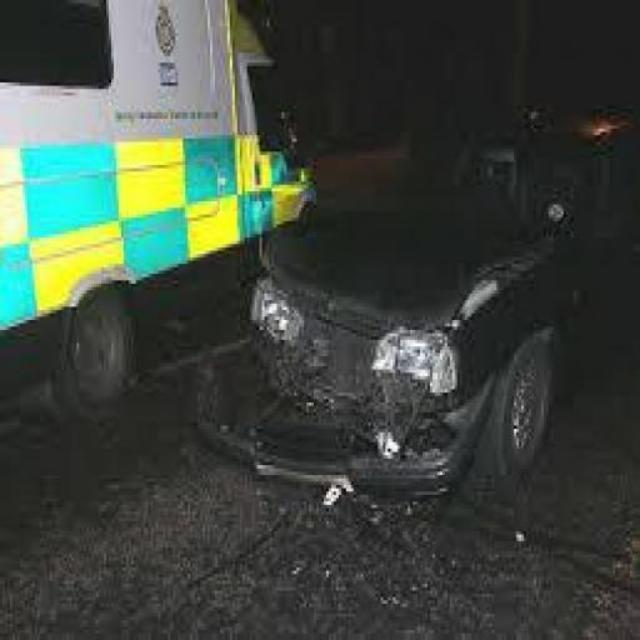no part: (195, 243, 512, 497)
